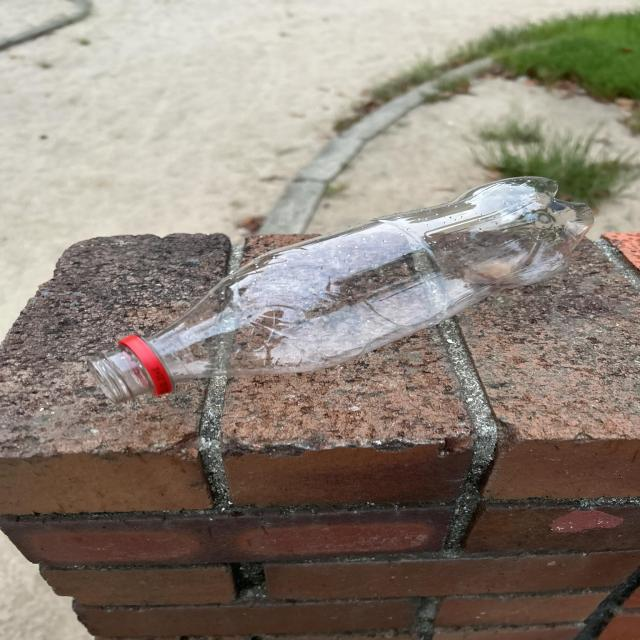empty: (88, 176, 593, 402)
